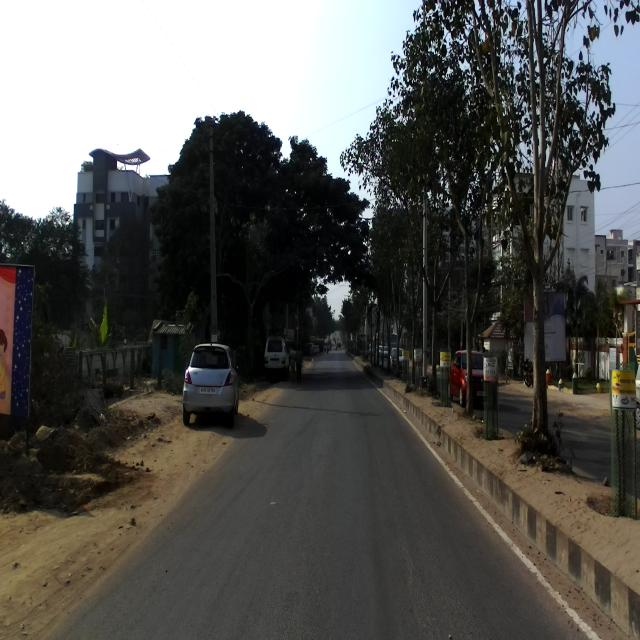car ahead at: (180, 336, 239, 429)
